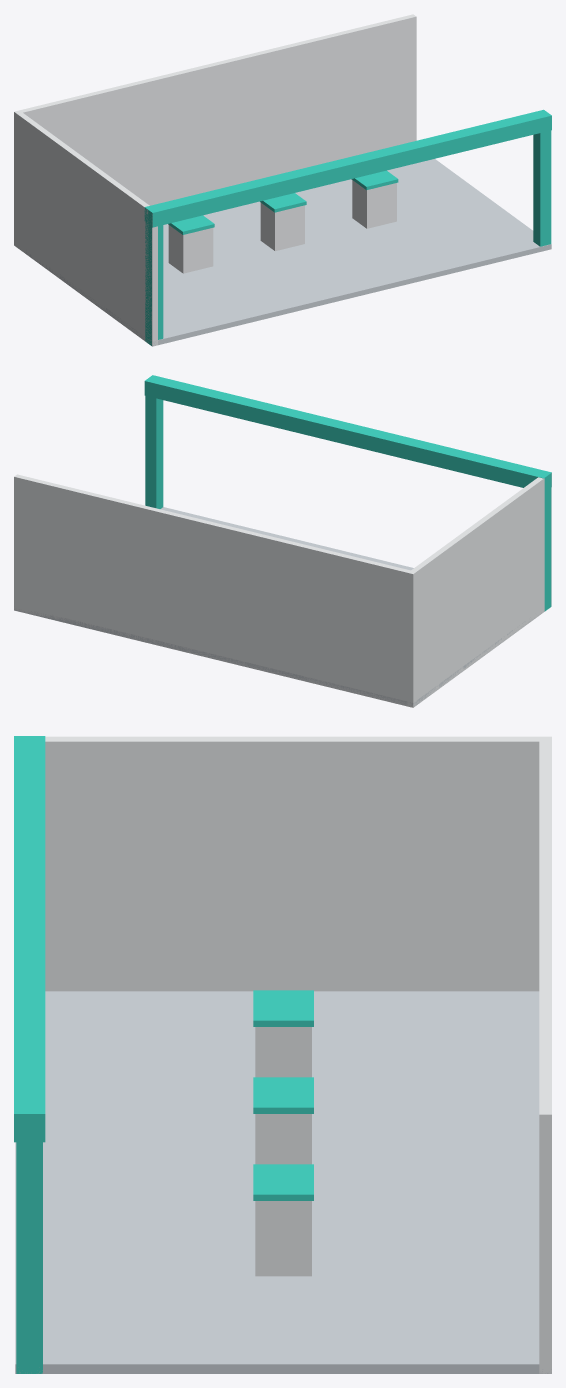
The picture shows the model from 3 angles, top to bottom: view 1: azimuth 30°, elevation 25°; view 2: azimuth 150°, elevation 25°; view 3: azimuth 270°, elevation 25°; orthographic projection. The views are drawn at different scales.
Visible parts, largest first — view 1: Exhibition Booth Concept; view 2: Exhibition Booth Concept; view 3: Exhibition Booth Concept.
Boxes of the visible parts, x1=… form: Exhibition Booth Concept: x1=14, y1=14, x2=551, y2=346; Exhibition Booth Concept: x1=14, y1=375, x2=551, y2=707; Exhibition Booth Concept: x1=14, y1=736, x2=551, y2=1373.
Bounding box in the file's own units: 10 × 3.2 × 6.02.
